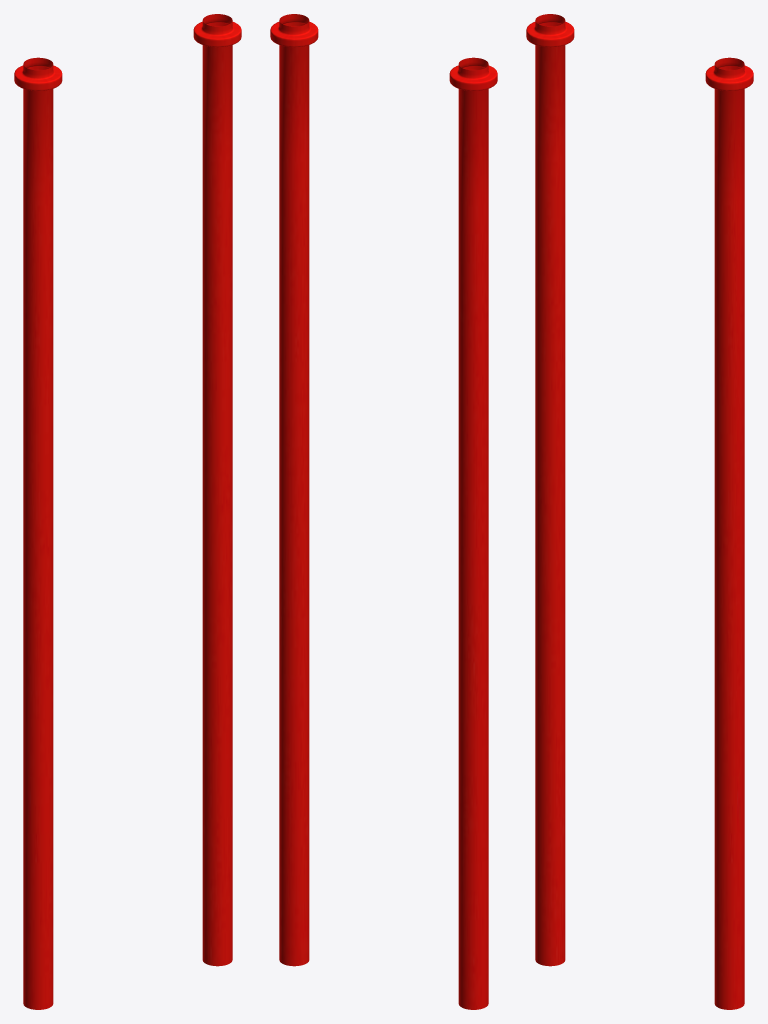
3 views of the same model, side by side, from view 1: azimuth 30°, elevation 25°; view 2: azimuth 150°, elevation 25°; view 3: azimuth 330°, elevation 25° (orthographic).
Visible parts, largest first — view 1: Slide; view 2: Slide; view 3: Slide.
Part boxes in pixels (x1=…): Slide: x1=14, y1=14, x2=241, y2=1009; Slide: x1=270, y1=14, x2=497, y2=1009; Slide: x1=526, y1=14, x2=753, y2=1009.
Bounding box in the file's own units: 39.19 × 159 × 7.39.
1 material, 1 textured.
